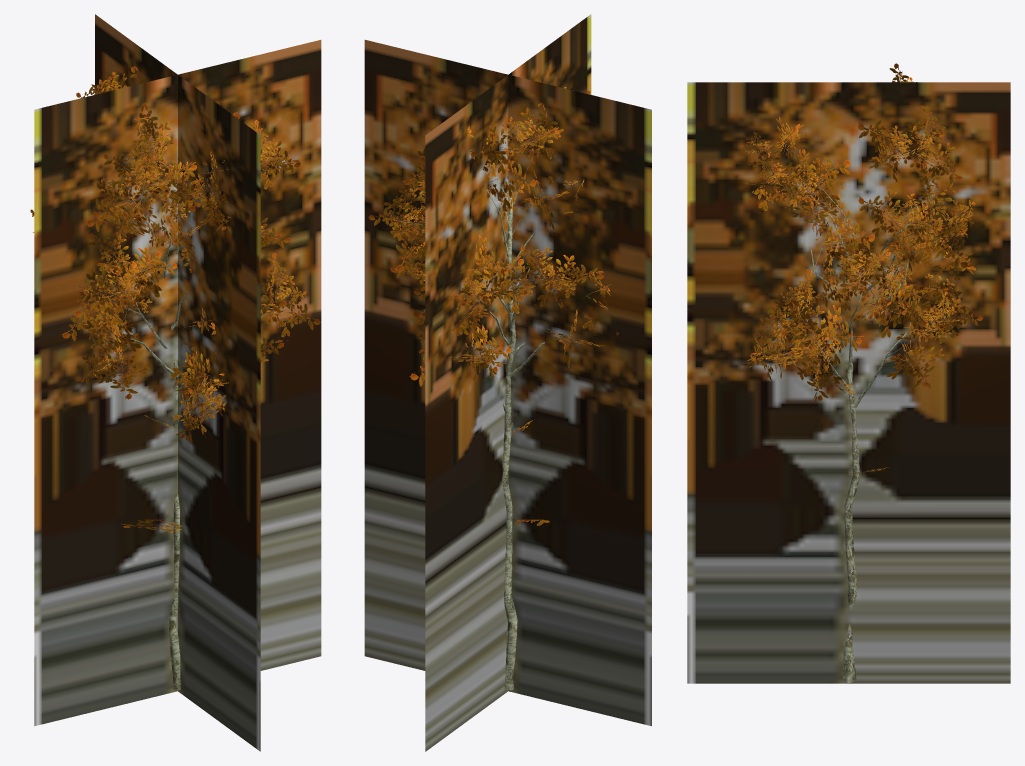
The model's file is Tree-Beech0B.fbx.
3 views of the same model, side by side, from view 1: azimuth 30°, elevation 25°; view 2: azimuth 150°, elevation 25°; view 3: azimuth 270°, elevation 25° (orthographic). The views are drawn at different scales.
Parts seen in each view (by area): view 1: Billboard-BeechB, Tree-Beech0B_LOD0; view 2: Billboard-BeechB, Tree-Beech0B_LOD0; view 3: Billboard-BeechB, Tree-Beech0B_LOD0.
Part boxes in pixels (x1,y1,x2,y2): Billboard-BeechB: (34, 14, 321, 751); Tree-Beech0B_LOD0: (30, 66, 320, 690); Billboard-BeechB: (364, 14, 651, 751); Tree-Beech0B_LOD0: (368, 86, 619, 690); Billboard-BeechB: (687, 82, 1010, 683); Tree-Beech0B_LOD0: (741, 63, 983, 682).
Size of what is drawn, in the model's own units: 1286 by 2638 by 1286.
